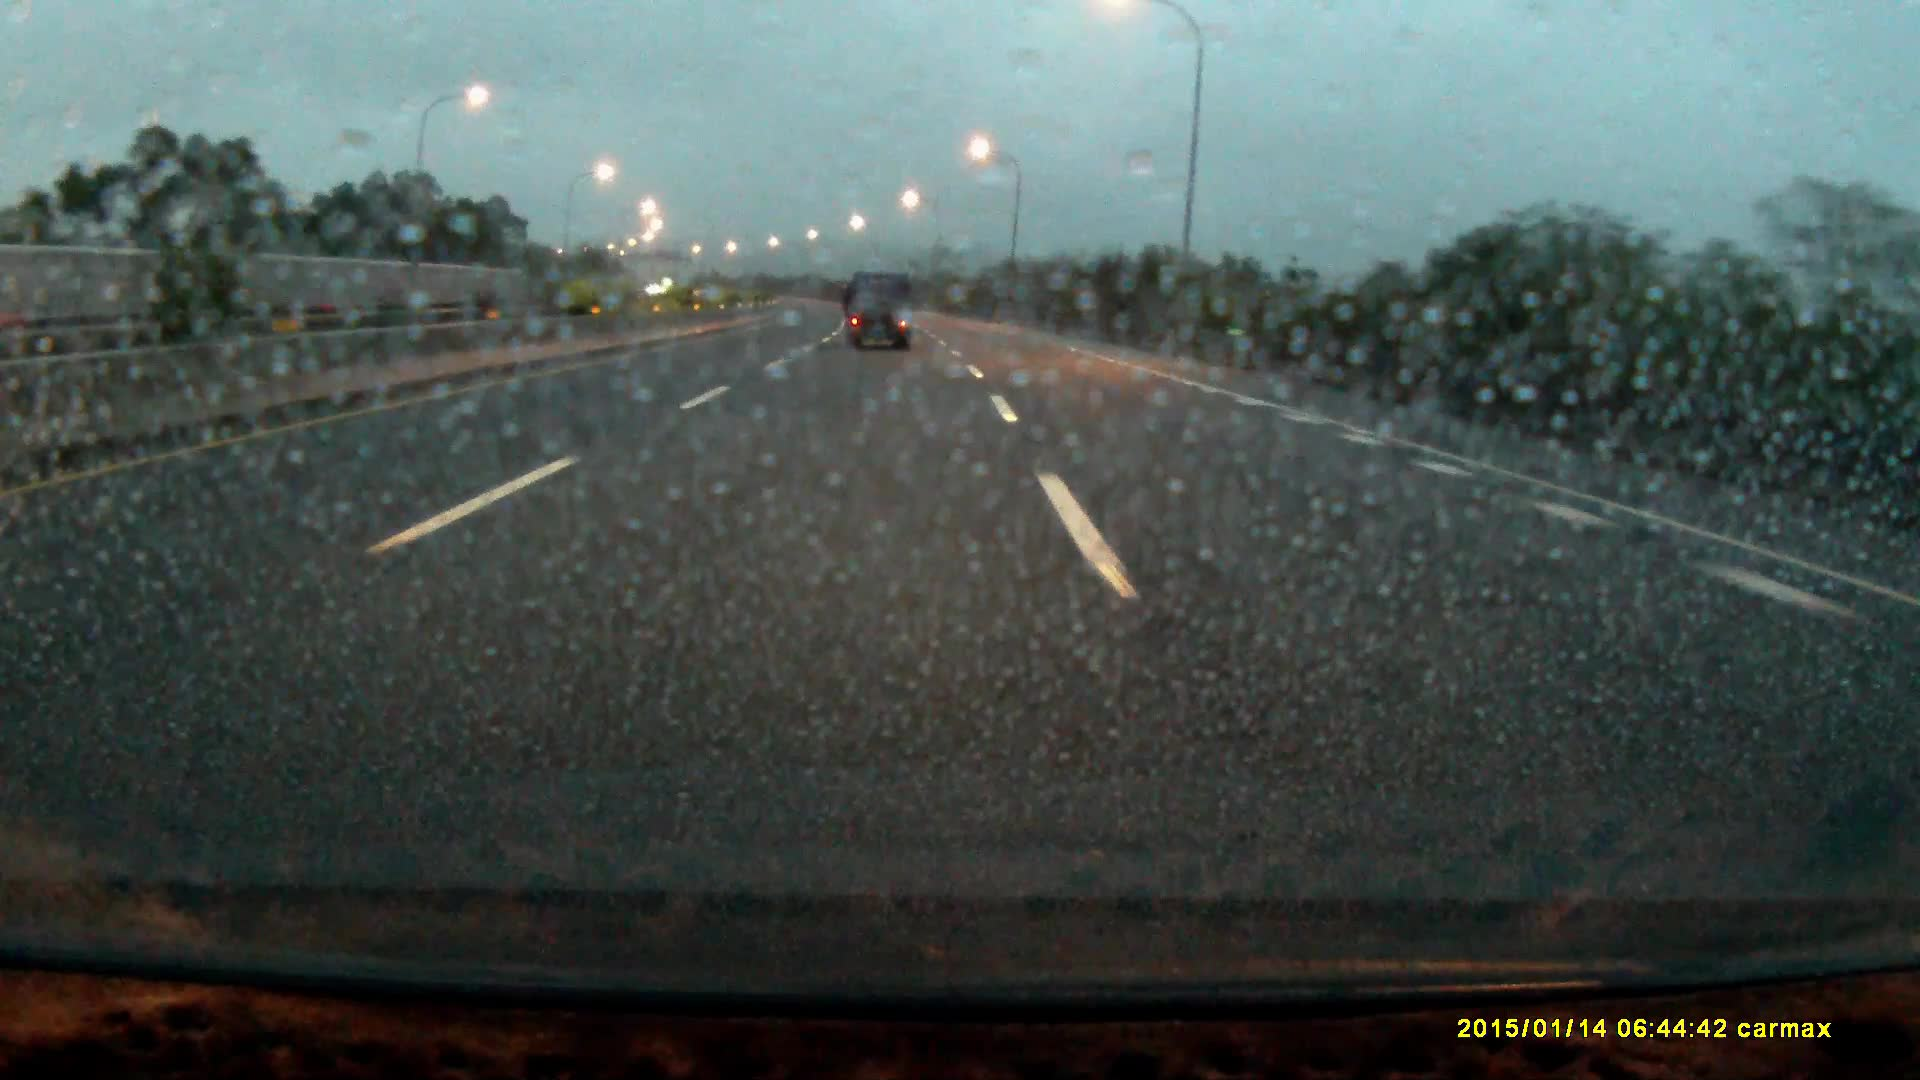vehicle: (845, 272, 913, 356)
